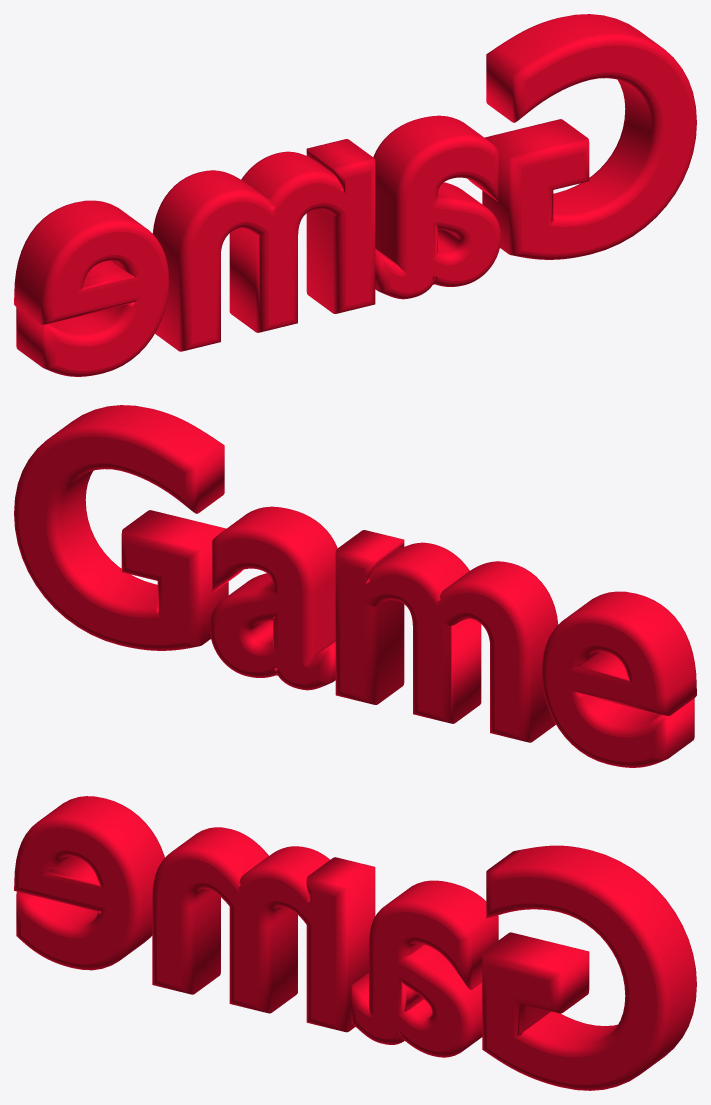
File: GameOverText.obj
The picture shows the model from 3 angles, top to bottom: view 1: azimuth 30°, elevation 25°; view 2: azimuth 150°, elevation 25°; view 3: azimuth 330°, elevation 25°; orthographic projection.
Parts seen in each view (by area): view 1: テキスト; view 2: テキスト; view 3: テキスト.
Part boxes in pixels (bbox=[...]): テキスト: bbox=[14, 14, 696, 376]; テキスト: bbox=[14, 405, 696, 767]; テキスト: bbox=[14, 796, 696, 1090].
Bounding box in the file's own units: 2.4 × 0.76 × 0.22.
